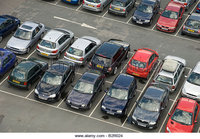car: (129, 84, 171, 125), (34, 61, 74, 100), (65, 70, 105, 108), (100, 74, 136, 114), (88, 39, 130, 69), (6, 20, 44, 53), (7, 59, 48, 88), (35, 27, 73, 58), (125, 48, 158, 79), (64, 36, 98, 65), (154, 56, 187, 84), (155, 1, 185, 30), (130, 1, 161, 23)
